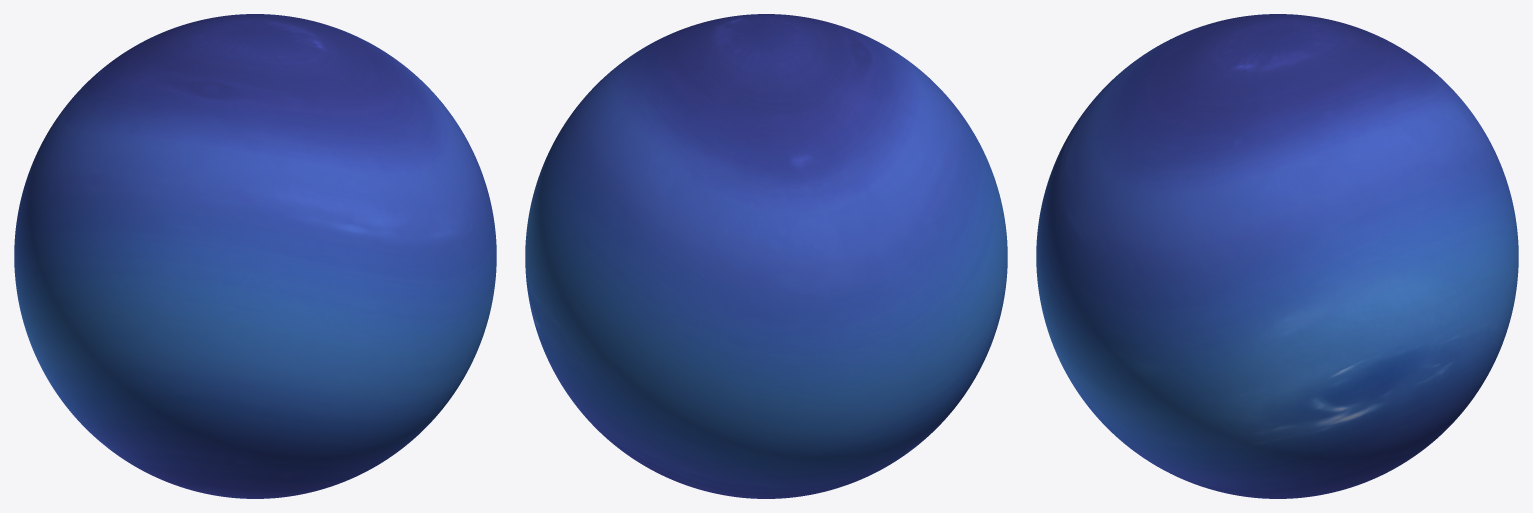
Rendered from Neptune.fbx.
3 renders of one model, left to right at view 1: azimuth 30°, elevation 25°; view 2: azimuth 150°, elevation 25°; view 3: azimuth 270°, elevation 25°, orthographic.
Visible parts, largest first — view 1: Sphere; view 2: Sphere; view 3: Sphere.
Part boxes in pixels (x1,y1,x2,y2): Sphere: (14,14,496,498); Sphere: (525,14,1007,498); Sphere: (1036,14,1518,498).
Size of the model in its own units: 197 by 200 by 197.
1 material, 1 textured.
